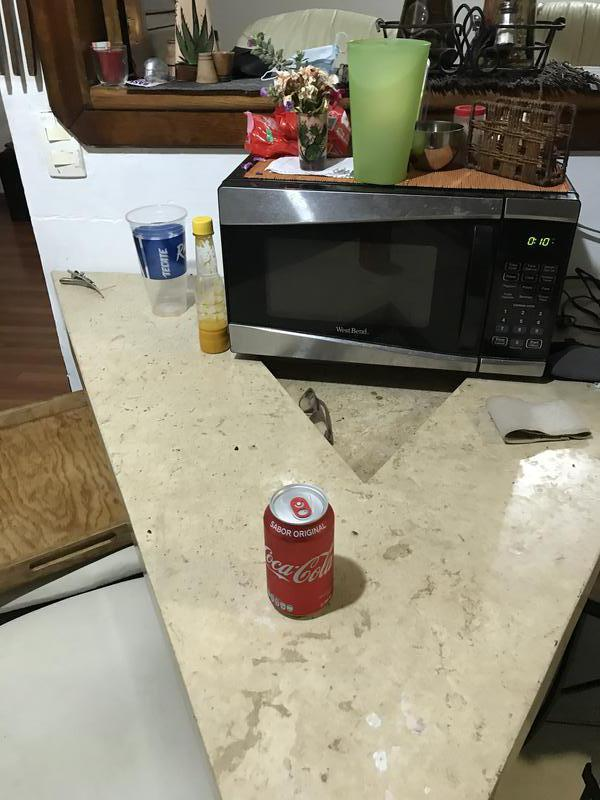coca_cola: (267, 484, 334, 619)
